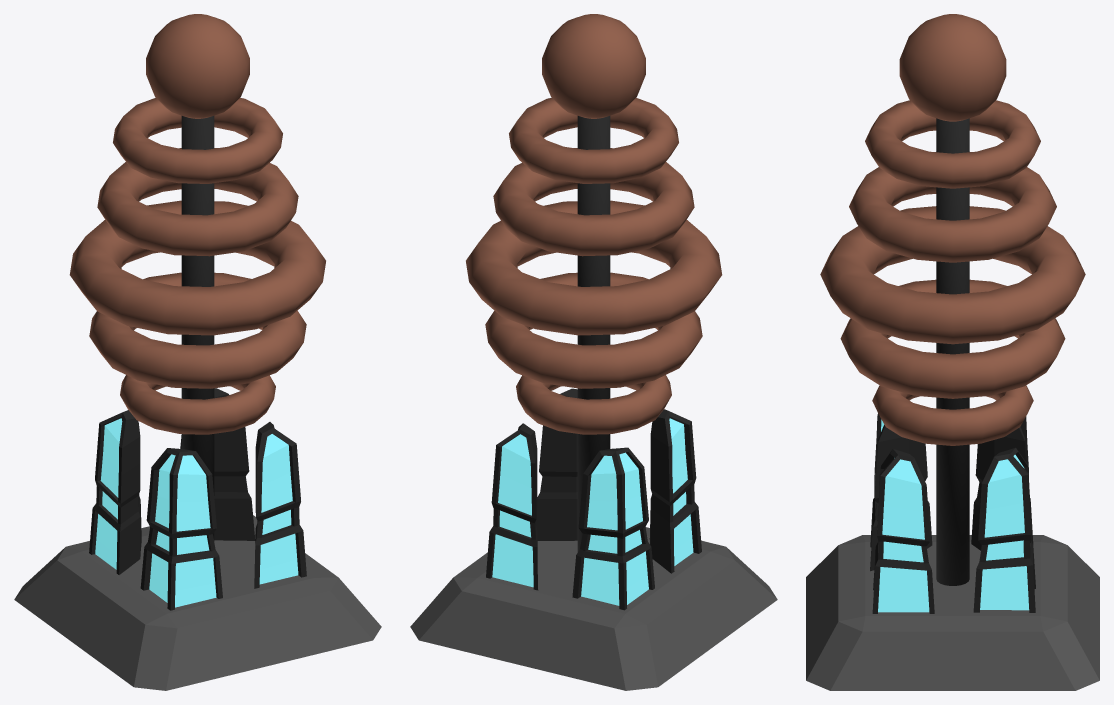
Rendered from ElectricCoil.fbx.
The picture shows the model from 3 angles, left to right: view 1: azimuth 30°, elevation 25°; view 2: azimuth 150°, elevation 25°; view 3: azimuth 270°, elevation 25°; orthographic projection. The views are drawn at different scales.
Visible parts, largest first — view 1: Cube; view 2: Cube; view 3: Cube.
Boxes of the visible parts, x1,y1,x2,y2 form: Cube: (14, 14, 381, 690); Cube: (410, 14, 777, 690); Cube: (806, 14, 1099, 690).
Size of the model in its own units: 196 by 452 by 196.
